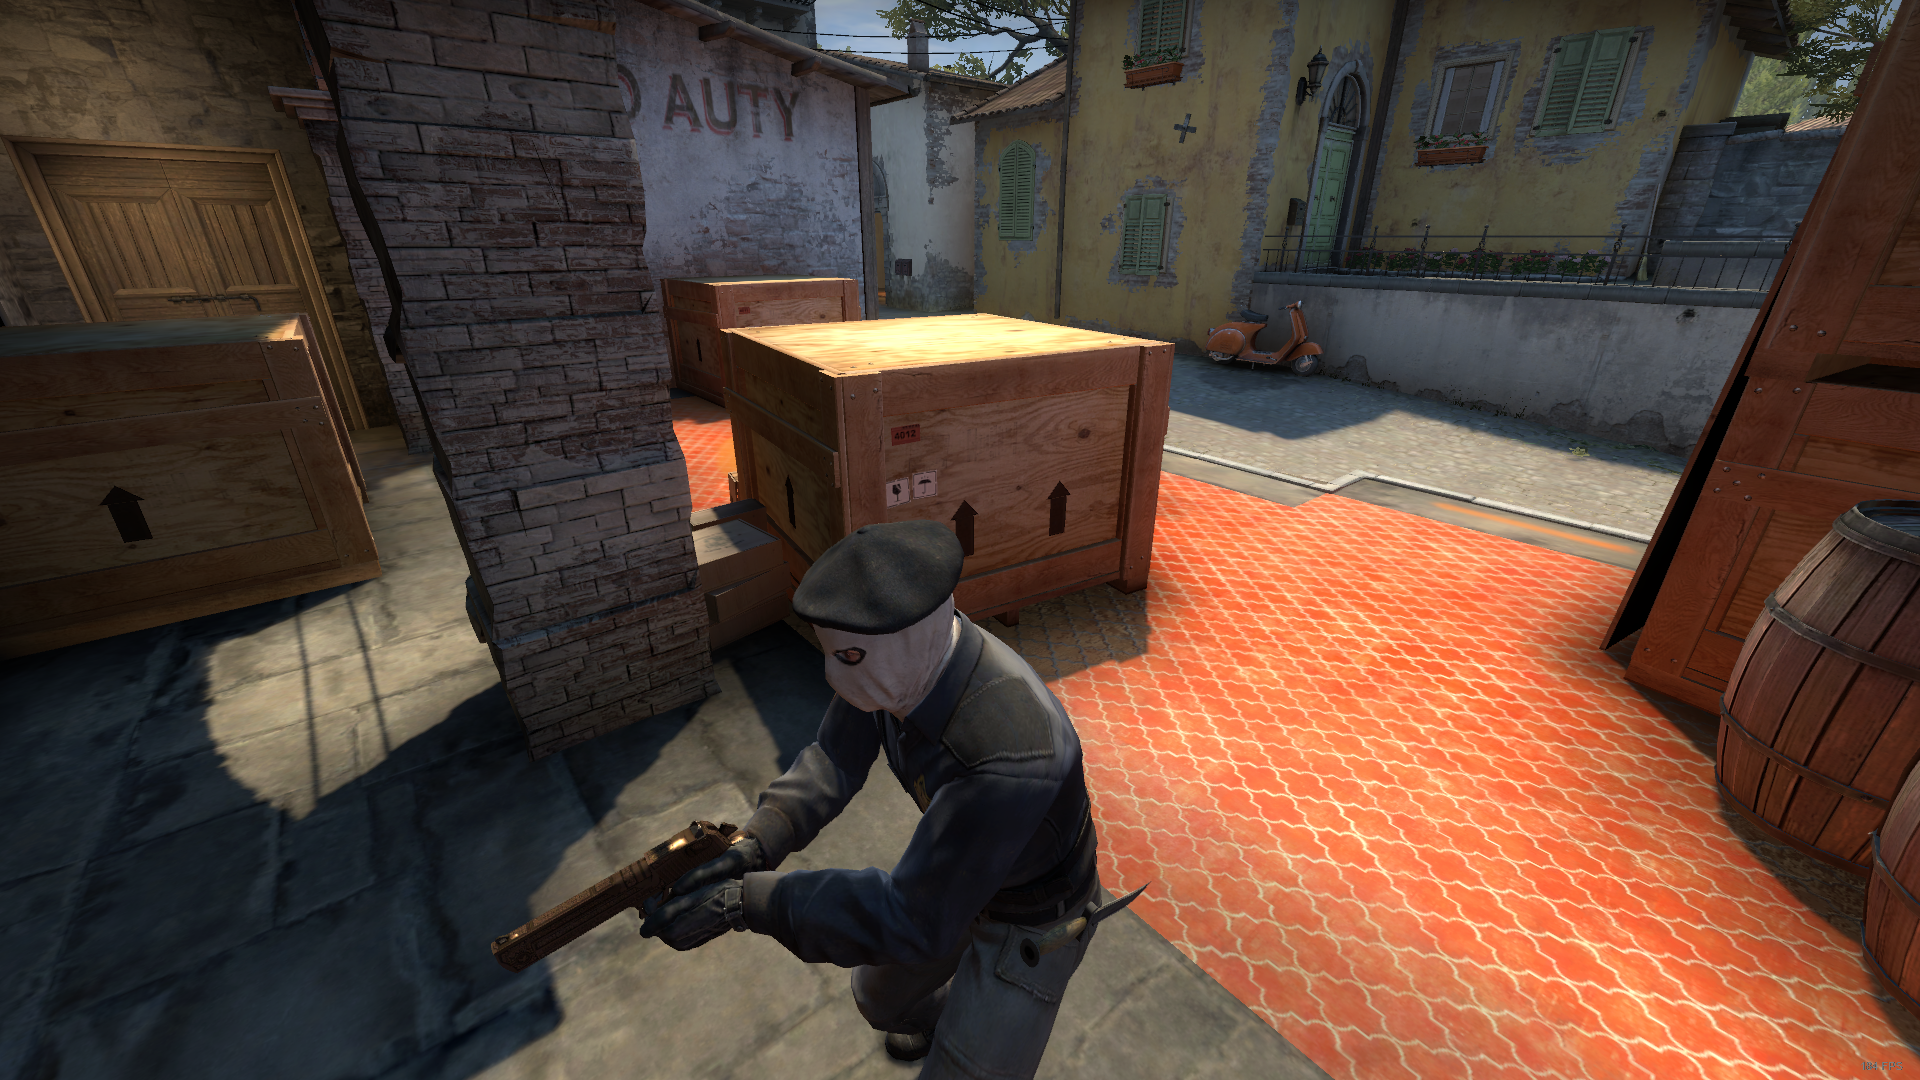t: (617, 514, 1139, 1080)
